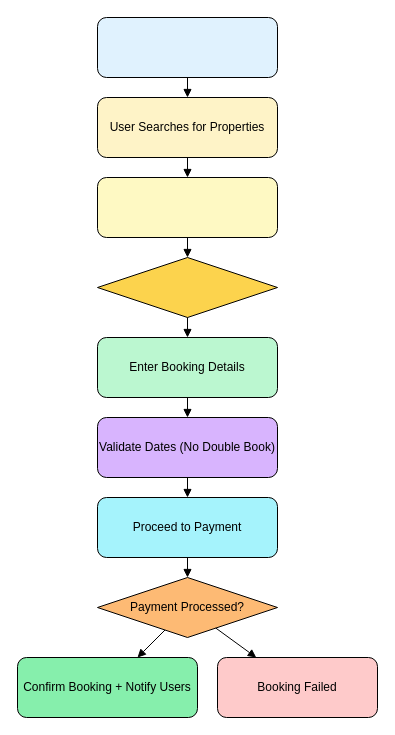
Some shapes in this 395 by 735 pixel diagram are drawn without their labels. Here are the shapes that lost their labels. From the top down, the centre of each, then its label:
At (187,47): "User Logs In".
At (187,207): "User Selects Property".
At (187,287): "Check Availability".
